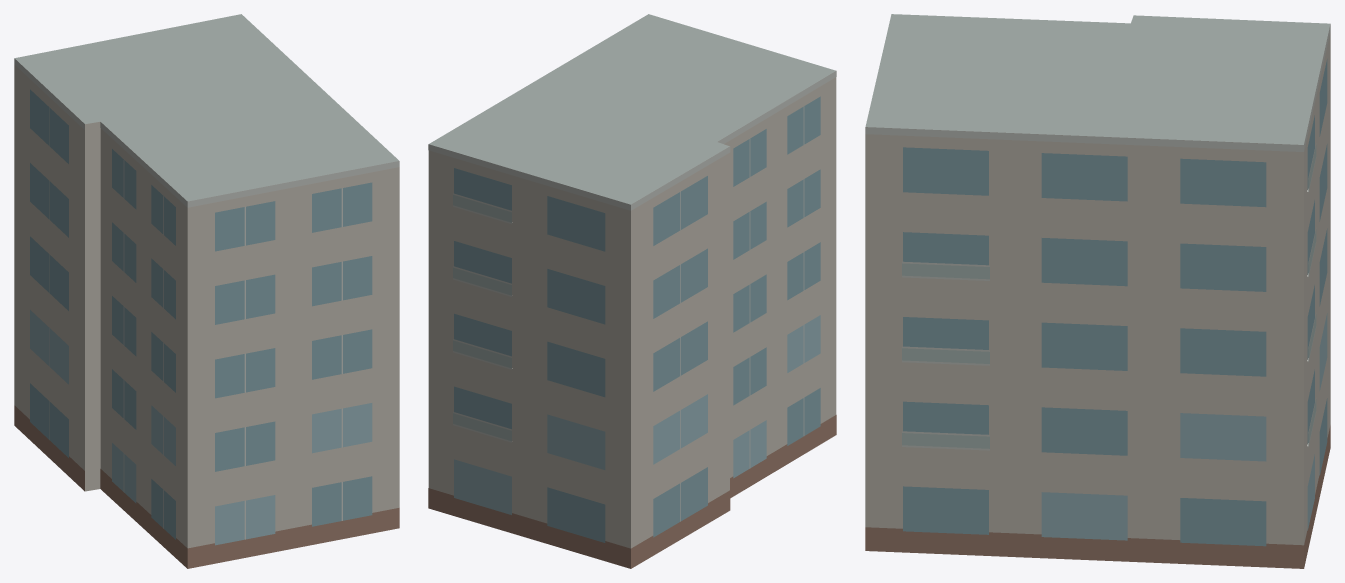
File: survey-upis-32986365.glb
3 renders of one model, left to right at view 1: azimuth 30°, elevation 25°; view 2: azimuth 150°, elevation 25°; view 3: azimuth 270°, elevation 25°, orthographic. The views are drawn at different scales.
Visible parts, largest first — view 1: survey-upis-32986365.tmp; view 2: survey-upis-32986365.tmp; view 3: survey-upis-32986365.tmp.
Part boxes in pixels (x1,y1,x2,y2): survey-upis-32986365.tmp: (14, 14, 399, 568); survey-upis-32986365.tmp: (428, 14, 836, 568); survey-upis-32986365.tmp: (865, 14, 1330, 568).
Size of the model in its own units: 9.62 by 14.5 by 14.43.
